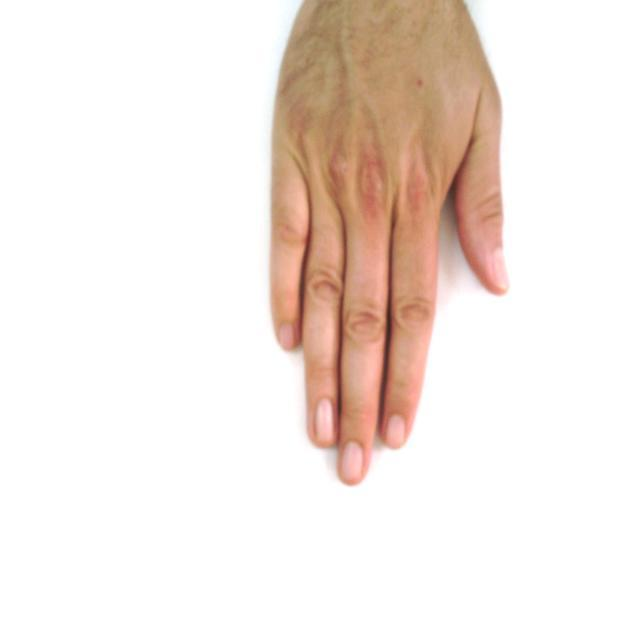Fingernail: (316, 398, 334, 440), (343, 441, 362, 480), (495, 250, 510, 289), (387, 414, 404, 448), (279, 324, 296, 350)
